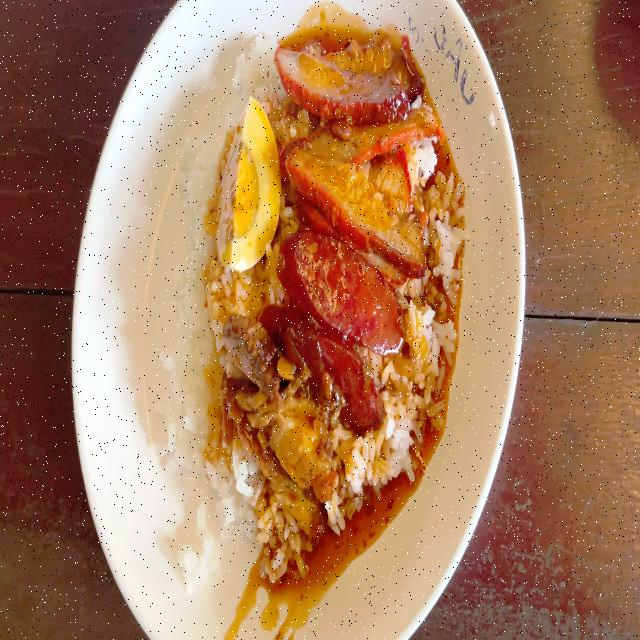boiled_egg: (224, 109, 278, 265)
chainese_sausage: (275, 234, 408, 420)
crispy_pork: (253, 400, 331, 524), (223, 314, 273, 452)
red_pork: (278, 46, 441, 262)
red_pork_and_crispy_pork: (184, 42, 438, 518)
rice: (170, 299, 225, 549), (180, 140, 217, 301), (340, 426, 408, 503)
